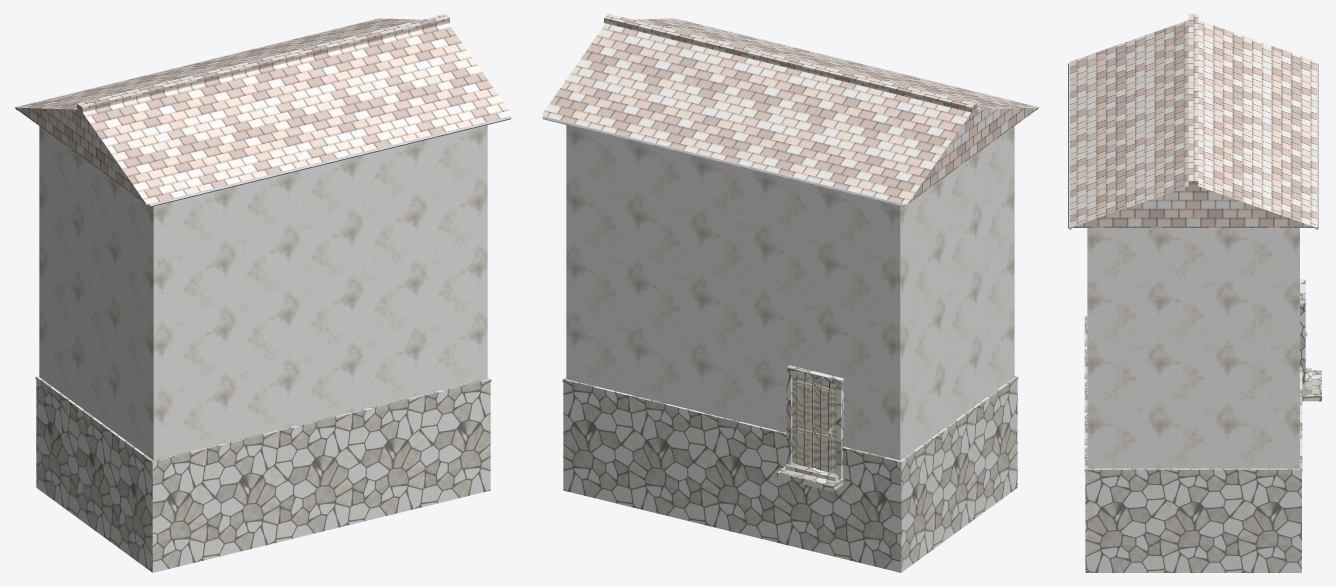
3 renders of one model, left to right at view 1: azimuth 30°, elevation 25°; view 2: azimuth 150°, elevation 25°; view 3: azimuth 270°, elevation 25°, orthographic. The views are drawn at different scales.
Visible parts, largest first — view 1: b1088806797; view 2: b1088806797; view 3: b1088806797.
Part boxes in pixels (x1,y1,x2,y2): b1088806797: (14, 14, 512, 572); b1088806797: (541, 14, 1039, 572); b1088806797: (1068, 14, 1321, 572).
Bounding box in the file's own units: 8.1 × 9.02 × 5.2.
11 materials, 11 textured.
